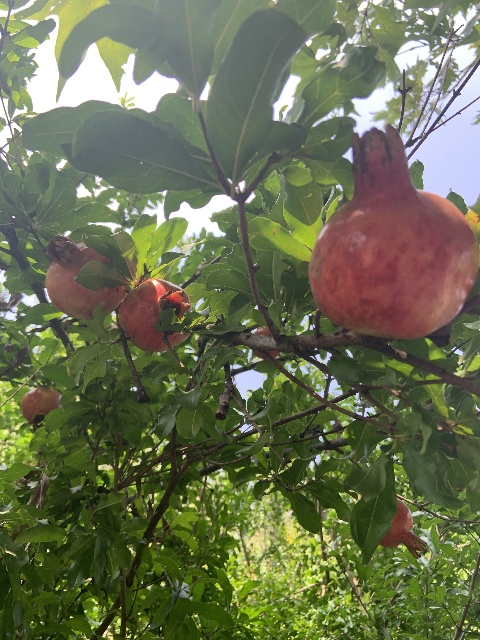ripe: (308, 123, 480, 340), (45, 234, 126, 321), (118, 278, 191, 352), (379, 497, 427, 559), (21, 387, 61, 431)
